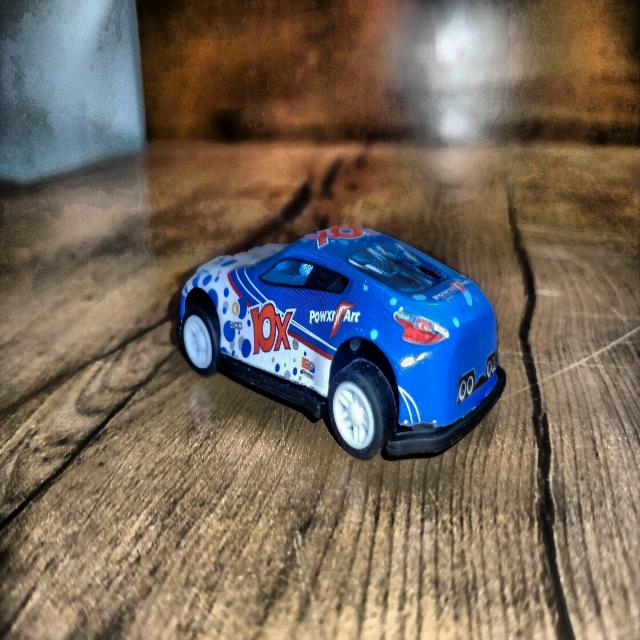Car: (176, 228, 504, 460)
